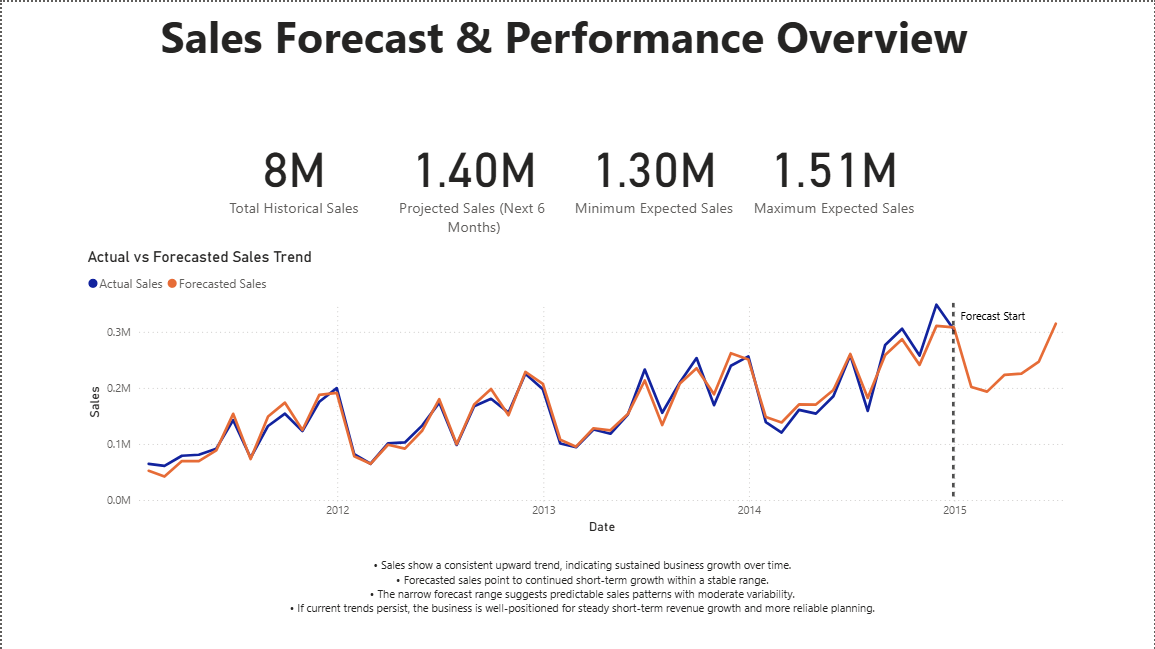

This screenshot's page, from the dashboard's own definition file:
{"tool":"powerbi","page":{"name":"Forecast Overview","canvas":[1280,720],"ordinal":0},"visuals":[{"type":"textbox","box":[171.1,0,937.8,90],"z":0},{"type":"card","fields":{"Values":["Sum(actual_vs_forecast_chart_data.actual_sales)"]},"box":[224.4,90,200,200],"z":1000},{"type":"card","fields":{"Values":["Sum(actual_vs_forecast_chart_data.forecast_sales)"]},"box":[424.4,90,200,200],"z":2000},{"type":"lineChart","title":"Actual vs Forecasted Sales Trend","fields":{"Y":["Sum(actual_vs_forecast_chart_data.actual_sales)","Sum(actual_vs_forecast_chart_data.forecast_sales)"],"Category":["actual_vs_forecast_chart_data.order_date"]},"box":[90,273.3,1098.9,323.3],"z":3000},{"type":"card","fields":{"Values":["Sum(sales_forecast.yhat_lower)"]},"box":[624.8,90,200,200],"z":4000},{"type":"card","fields":{"Values":["Sum(sales_forecast.yhat_upper)"]},"box":[824.4,90,200,200],"z":5000},{"type":"textbox","box":[0,612.2,1280,107.8],"z":6000}]}

Visuals, with their boxes in screenshot pixels (x1, y1, x2, y2), scaled from the page's 1280x720 canvas onto the 1155x649 screenshot:
textbox: [left=154, top=0, right=1001, bottom=81]
card - Sum(actual_vs_forecast_chart_data.actual_sales): [left=202, top=81, right=383, bottom=261]
card - Sum(actual_vs_forecast_chart_data.forecast_sales): [left=383, top=81, right=563, bottom=261]
"Actual vs Forecasted Sales Trend" lineChart: [left=81, top=246, right=1073, bottom=538]
card - Sum(sales_forecast.yhat_lower): [left=564, top=81, right=744, bottom=261]
card - Sum(sales_forecast.yhat_upper): [left=744, top=81, right=924, bottom=261]
textbox: [left=0, top=552, right=1154, bottom=648]
